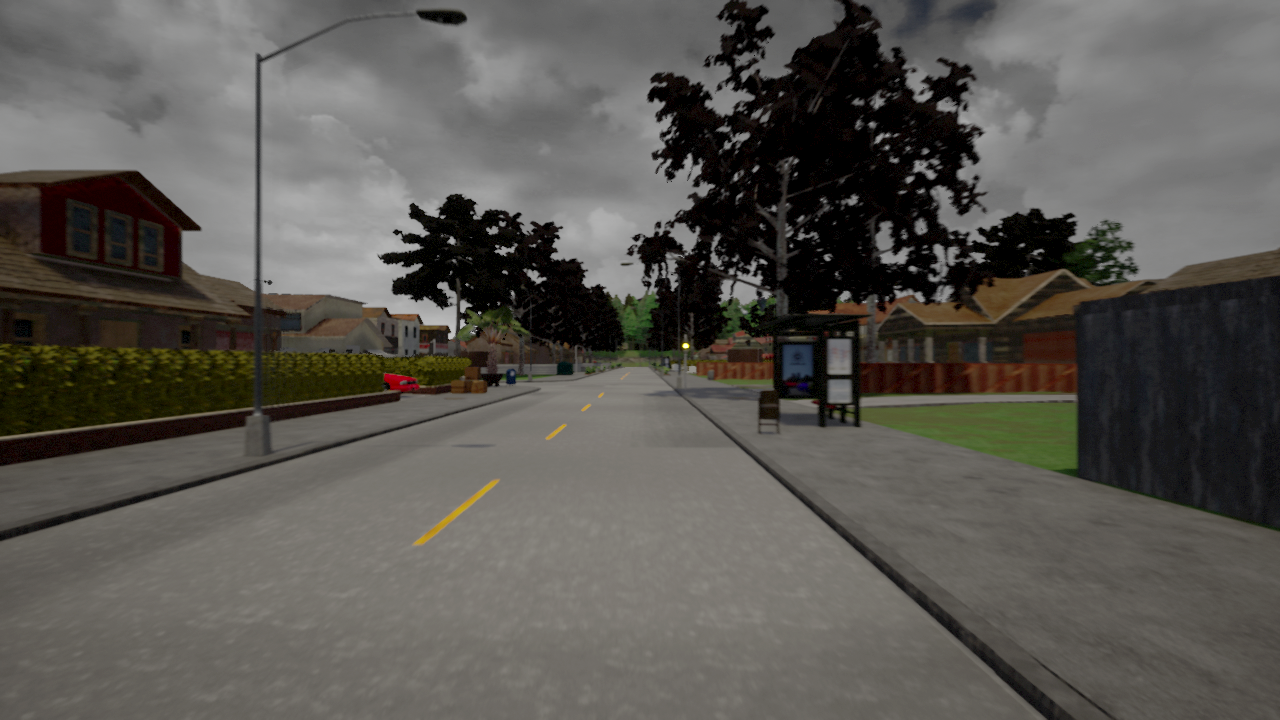yellow: (682, 337, 689, 354)
